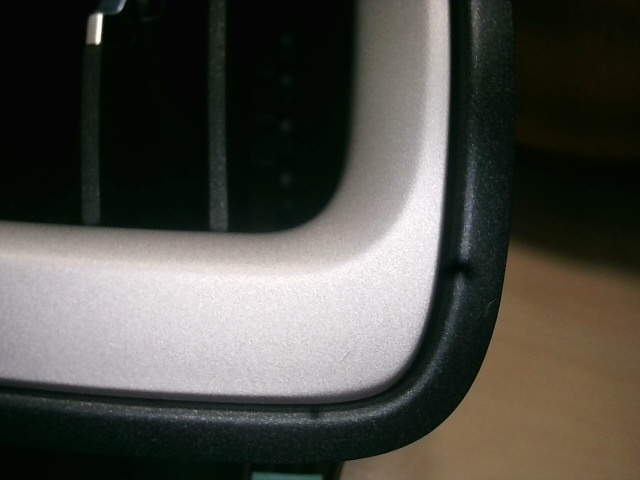NG: (330, 341, 359, 373), (480, 293, 499, 321)
